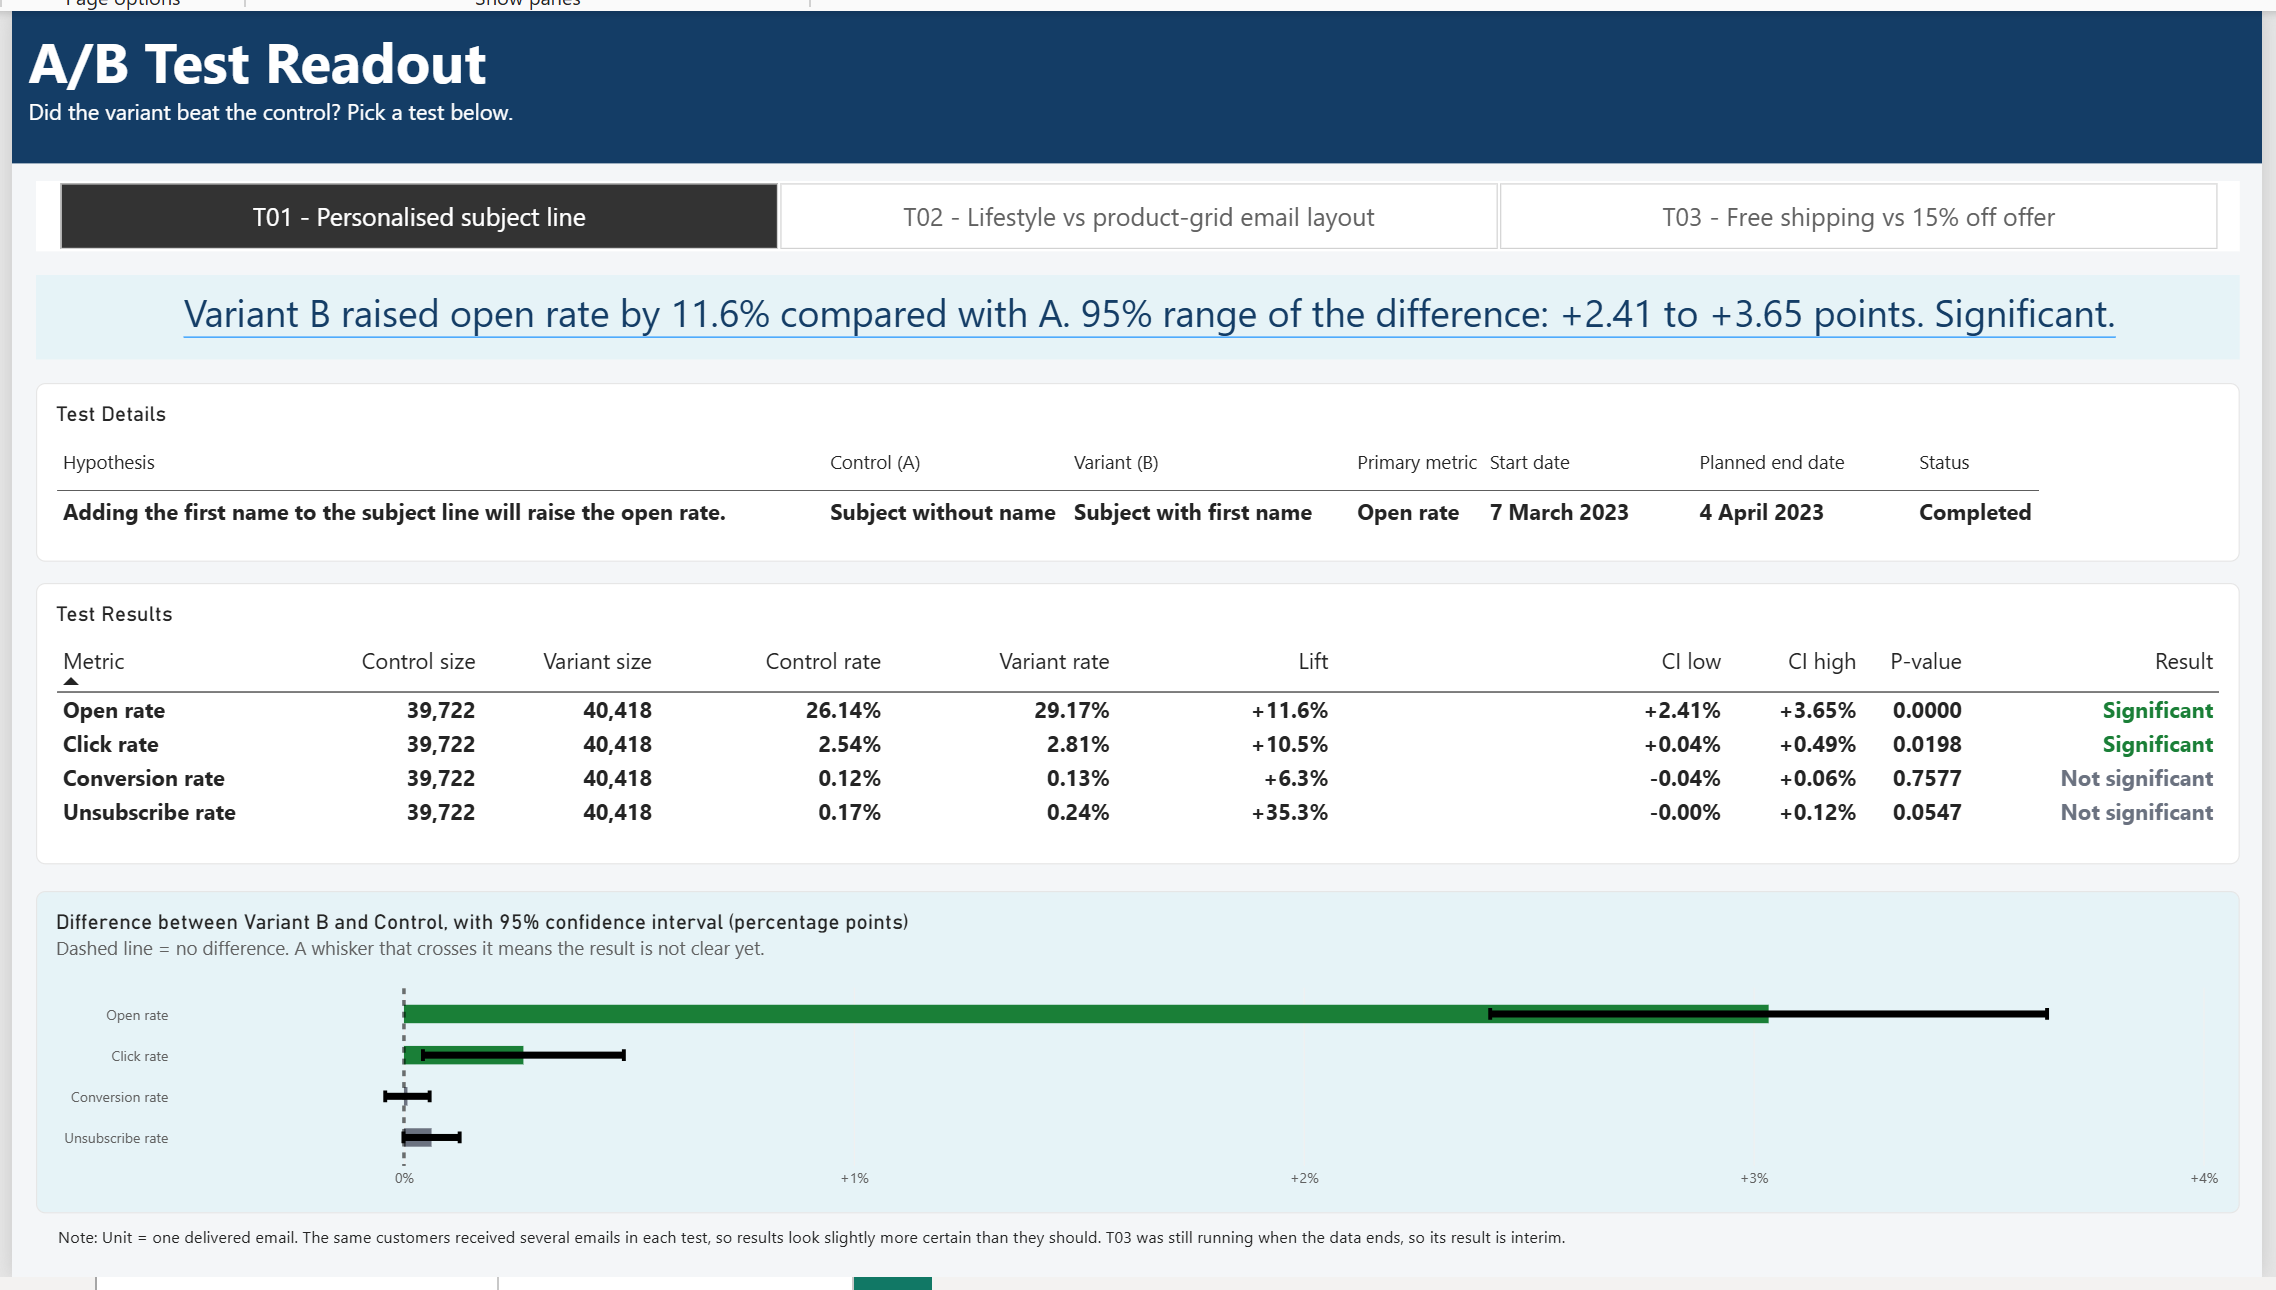

The page's visual inventory and layout, read from the dashboard file:
{"tool":"powerbi","page":{"name":"Page 2: A/B Test Readout ","canvas":[1920,1080],"ordinal":1},"visuals":[{"type":"textbox","box":[0,0,1920,130],"z":0},{"type":"slicer","fields":{"Values":["ab_tests.test_label"]},"box":[20,145,1880,60],"z":1000},{"type":"textbox","box":[20,225,1880,72],"z":2000},{"type":"tableEx","title":"Test Details","fields":{"Values":["ab_tests.hypothesis","ab_tests.variant_a","ab_tests.variant_b","ab_tests.primary_metric_key","ab_tests.start_date","ab_tests.planned_end_date","ab_tests.status"]},"box":[20,317.5,1880,152.5],"z":3000},{"type":"tableEx","title":"Test Results","fields":{"Values":["AB Metric.Metric","_Measures.n A","_Measures.n B","_Measures.Rate A","_Measures.Rate B","_Measures.Lift %","_Measures.CI Low","_Measures.CI High","_Measures.P Value","_Measures.Result"]},"box":[20,487.5,1880,240],"z":4000},{"type":"clusteredBarChart","title":"Difference between Variant B and Control, with 95% confidence interval (percentage points)","fields":{"Category":["AB Metric.Metric"],"Y":["_Measures.Difference"]},"box":[20,750,1880,275],"z":5000},{"type":"textbox","box":[40,1036,1880,20],"z":5001}]}

Visuals, with their boxes on the page's 1920x1080 design canvas (x1, y1, x2, y2). These are canvas units, not pixel positions in the 2276x1290 screenshot, which may show the page scaled, cropped or inside an application window:
textbox: [left=0, top=0, right=1920, bottom=130]
slicer - ab_tests.test_label: [left=20, top=145, right=1900, bottom=205]
textbox: [left=20, top=225, right=1900, bottom=297]
"Test Details" tableEx: [left=20, top=318, right=1900, bottom=470]
"Test Results" tableEx: [left=20, top=488, right=1900, bottom=728]
"Difference between Variant B and Control, with 95% confidence interval (percentage points)" clusteredBarChart: [left=20, top=750, right=1900, bottom=1025]
textbox: [left=40, top=1036, right=1920, bottom=1056]
